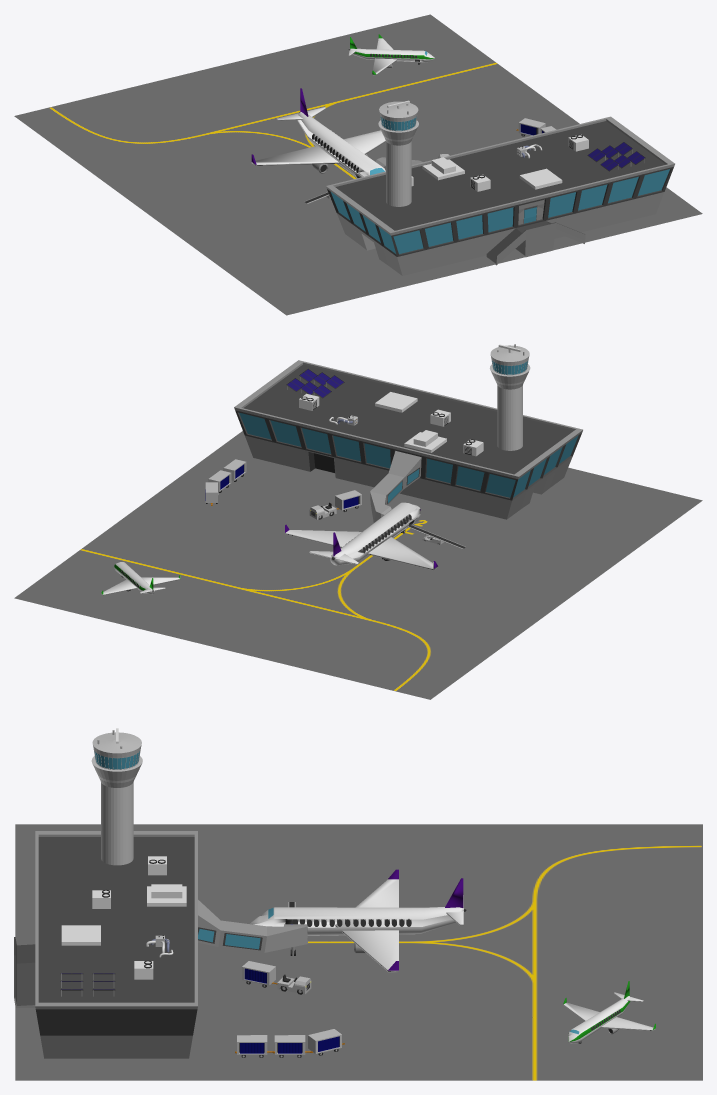
Rendered from scene.ff4dff5e.glb.
The picture shows the model from 3 angles, top to bottom: view 1: azimuth 30°, elevation 25°; view 2: azimuth 150°, elevation 25°; view 3: azimuth 270°, elevation 25°; orthographic projection. The views are drawn at different scales.
Visible parts, largest first — view 1: Plane, AirportTerminal, AirportTerminal.002, AirportControlTower, AirportTerminal.001; view 2: Plane, AirportTerminal, AirportTerminal.002, AirportControlTower, AirportTerminal.001; view 3: Plane, AirportTerminal, AirportTerminal.002, AirportControlTower, AirportTerminal.001, BaggageCart.004, BaggageCart.003, BaggageCart.002, BaggageCart.001.
Part boxes in pixels (<box>): Plane: <box>14,14,702,315</box>; AirportTerminal: <box>326,116,674,275</box>; AirportTerminal.002: <box>251,88,385,178</box>; AirportControlTower: <box>378,101,418,206</box>; AirportTerminal.001: <box>348,34,434,75</box>; Plane: <box>14,431,702,699</box>; AirportTerminal: <box>234,360,582,522</box>; AirportTerminal.002: <box>285,502,438,570</box>; AirportControlTower: <box>489,344,530,450</box>; AirportTerminal.001: <box>101,562,180,595</box>; Plane: <box>15,824,702,1080</box>; AirportTerminal: <box>14,831,307,1058</box>; AirportTerminal.002: <box>249,869,466,972</box>; AirportControlTower: <box>91,730,142,865</box>; AirportTerminal.001: <box>563,981,655,1043</box>; BaggageCart.004: <box>242,961,277,987</box>; BaggageCart.003: <box>308,1029,344,1055</box>; BaggageCart.002: <box>273,1035,312,1057</box>; BaggageCart.001: <box>235,1035,274,1057</box>.
Size of what is drawn, in the model's own units: 8.39 by 2.85 by 9.53.
19 materials, 1 textured.
